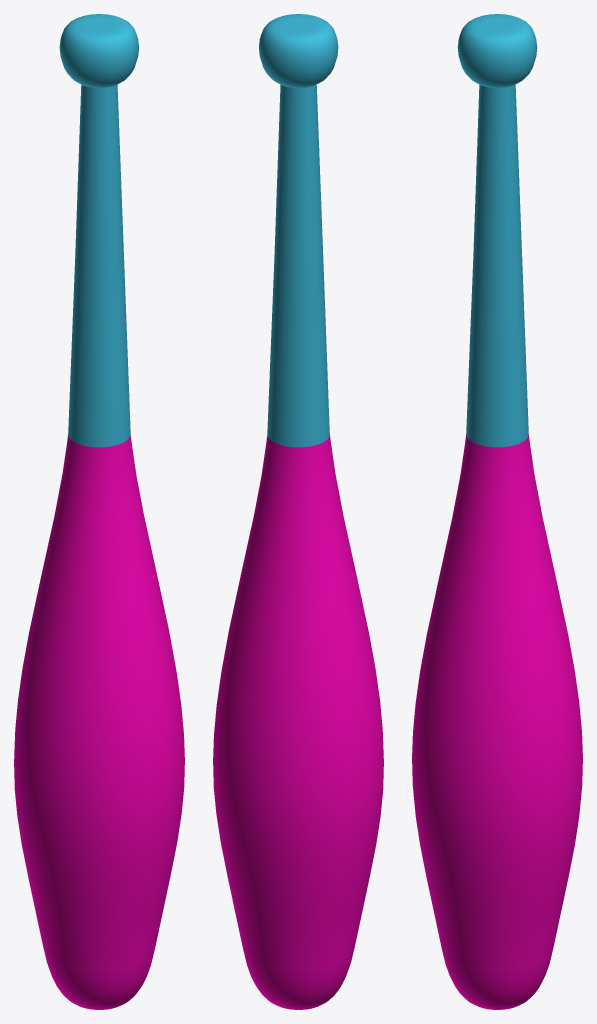
The model's file is JugglingPins.fbx.
3 renders of one model, left to right at view 1: azimuth 30°, elevation 25°; view 2: azimuth 150°, elevation 25°; view 3: azimuth 270°, elevation 25°, orthographic.
Parts seen in each view (by area): view 1: Juggling Pin; view 2: Juggling Pin; view 3: Juggling Pin.
Part boxes in pixels (<box>): Juggling Pin: <box>14,14,184,1009</box>; Juggling Pin: <box>213,14,383,1009</box>; Juggling Pin: <box>412,14,582,1009</box>.
Size of the model in its own units: 6.66 by 42.01 by 6.67.
